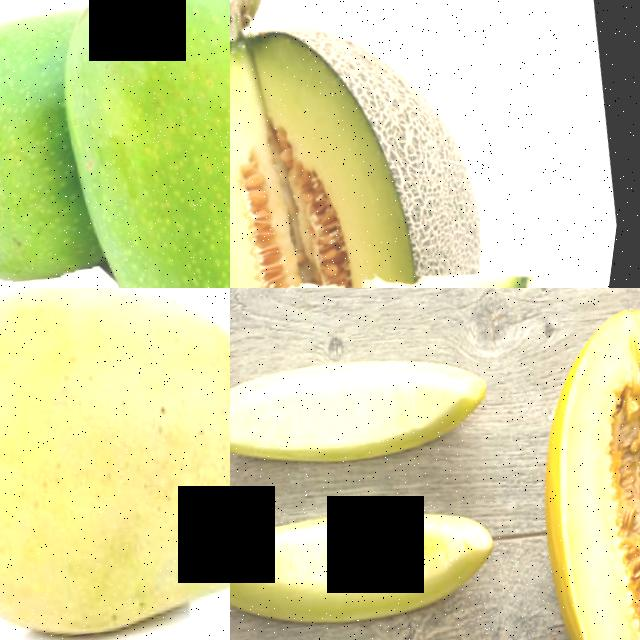mango: (0, 288, 230, 640), (3, 0, 230, 288), (0, 0, 114, 288)
melon: (230, 0, 527, 288), (476, 288, 640, 640), (230, 303, 508, 508), (230, 453, 523, 640), (230, 196, 594, 288)
